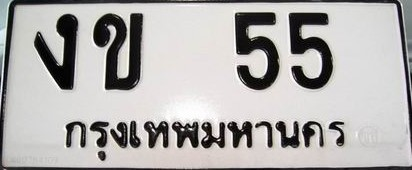txt02: (91, 10, 146, 93)
txt05: (32, 12, 80, 92)
